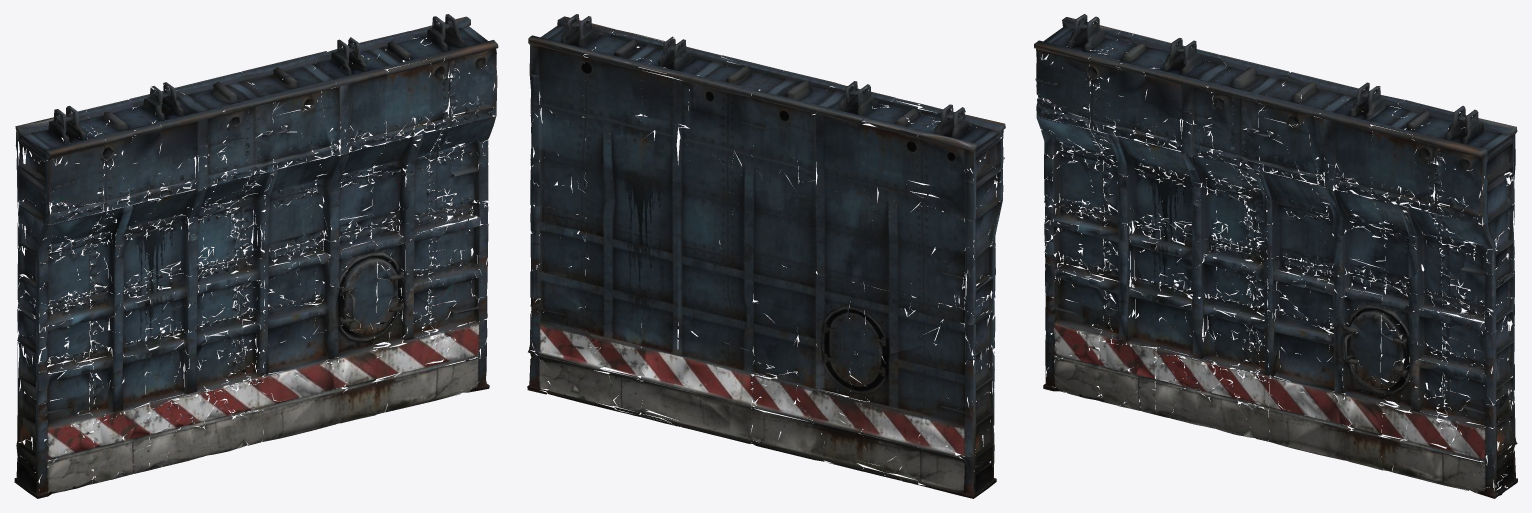
File: wall_panel.glb
The picture shows the model from 3 angles, left to right: view 1: azimuth 30°, elevation 25°; view 2: azimuth 150°, elevation 25°; view 3: azimuth 330°, elevation 25°; orthographic projection.
Parts seen in each view (by area): view 1: Mesh; view 2: Mesh; view 3: Mesh.
Part boxes in pixels (left/top/right/bottom): Mesh: left=14, top=14, right=498, bottom=498; Mesh: left=527, top=14, right=1005, bottom=498; Mesh: left=1034, top=14, right=1517, bottom=498.
Size of the model in its own units: 4.03 by 3.2 by 0.5651.
1 material, 1 textured.
